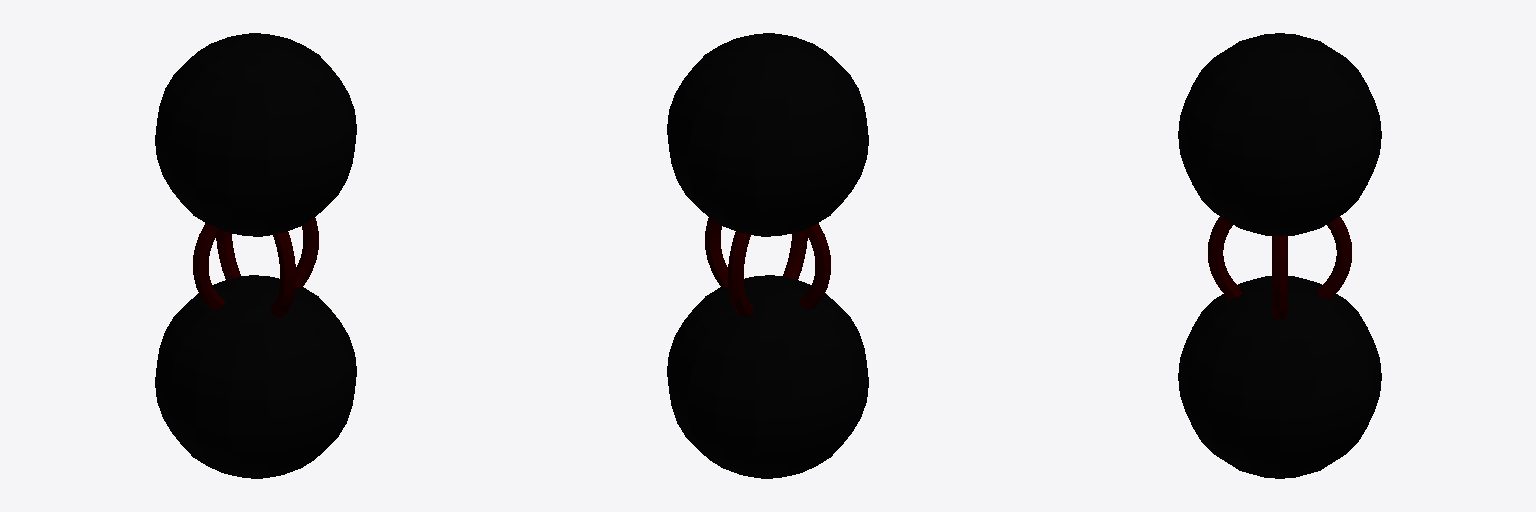
The model's file is RocketBody_003.obj.
3 renders of one model, left to right at view 1: azimuth 30°, elevation 25°; view 2: azimuth 150°, elevation 25°; view 3: azimuth 270°, elevation 25°, orthographic.
Visible parts, largest first — view 1: Body_003_Sphere.001; view 2: Body_003_Sphere.001; view 3: Body_003_Sphere.001.
Part boxes in pixels (left/top/right/bottom): Body_003_Sphere.001: left=155, top=33, right=356, bottom=478; Body_003_Sphere.001: left=667, top=33, right=868, bottom=478; Body_003_Sphere.001: left=1178, top=33, right=1381, bottom=478.
Size of the model in its own units: 4.21 by 9.72 by 4.21.